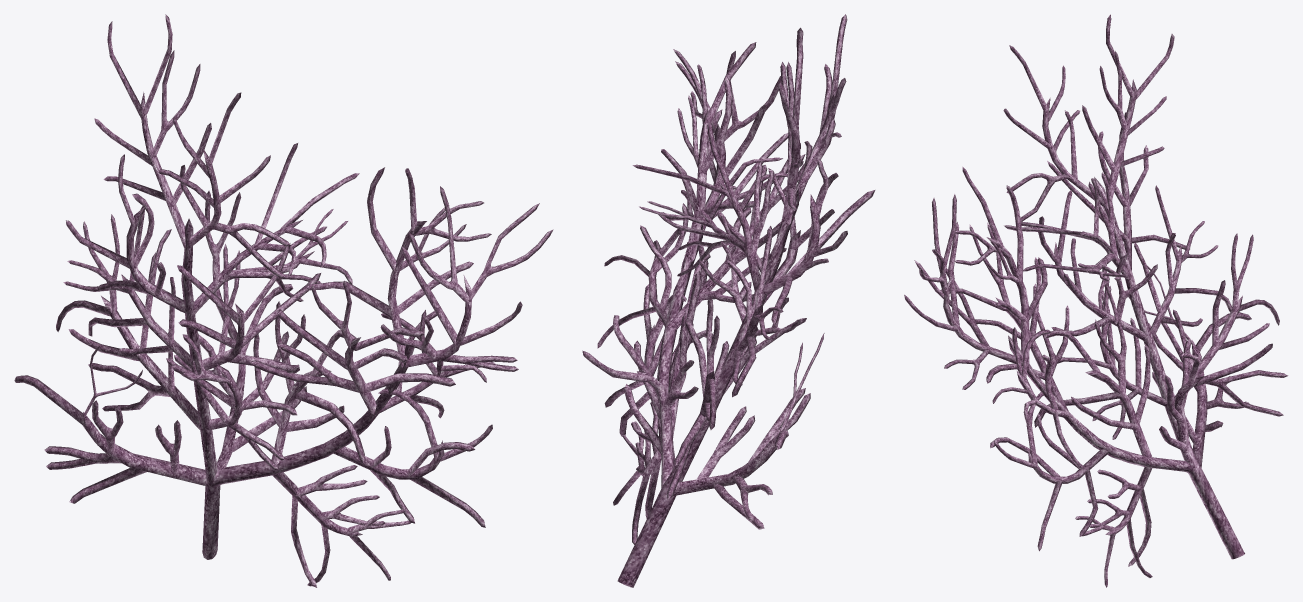
File: FanCoralCluster.009_FBX_still.fbx
3 renders of one model, left to right at view 1: azimuth 30°, elevation 25°; view 2: azimuth 150°, elevation 25°; view 3: azimuth 270°, elevation 25°, orthographic. The views are drawn at different scales.
Parts seen in each view (by area): view 1: FanCoralCluster.009_gameasset; view 2: FanCoralCluster.009_gameasset; view 3: FanCoralCluster.009_gameasset.
Part boxes in pixels (x1=…): FanCoralCluster.009_gameasset: x1=14, y1=14, x2=553, y2=587; FanCoralCluster.009_gameasset: x1=582, y1=14, x2=875, y2=587; FanCoralCluster.009_gameasset: x1=904, y1=14, x2=1288, y2=587.
Size of the model in its own units: 2.55 by 4.28 by 2.99.
1 material, 1 textured.
